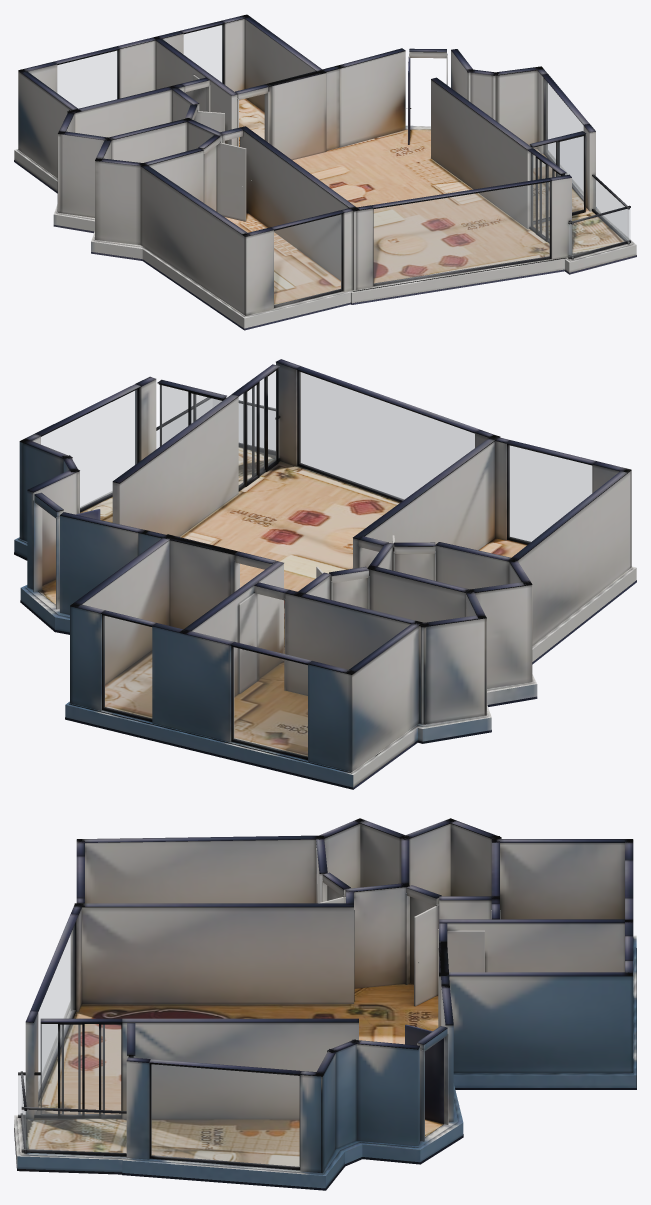
The picture shows the model from 3 angles, top to bottom: view 1: azimuth 30°, elevation 25°; view 2: azimuth 150°, elevation 25°; view 3: azimuth 270°, elevation 25°; orthographic projection. The views are drawn at different scales.
Parts seen in each view (by area): view 1: plan, glass3_m, glass2_m, glass0_m, glass6_m, railg1_m, glass5_m, glass1_m, railg0_m, glass4_m; view 2: plan, glass3_m, glass0_m, glass6_m, glass2_m, glass1_m, glass4_m, glass5_m, railg1_m, railg0_m; view 3: plan, glass6_m, glass4_m, railg0_m, glass3_m.
Boxes of the visible parts, box(x1,y1,x2,y2) form: plan: box(14, 14, 636, 330); glass3_m: box(374, 182, 549, 283); glass2_m: box(274, 215, 341, 305); glass0_m: box(57, 51, 117, 108); glass6_m: box(545, 80, 583, 196); railg1_m: box(569, 208, 630, 256); glass5_m: box(534, 136, 583, 212); glass1_m: box(184, 25, 222, 82); railg0_m: box(593, 177, 628, 241); glass4_m: box(530, 152, 560, 239); plan: box(14, 359, 636, 789); glass3_m: box(299, 372, 474, 499); glass0_m: box(233, 647, 307, 756); glass6_m: box(41, 390, 136, 508); glass2_m: box(509, 445, 591, 541); glass1_m: box(104, 616, 151, 718); glass4_m: box(239, 371, 275, 487); glass5_m: box(159, 385, 221, 446); railg1_m: box(213, 399, 275, 450); railg0_m: box(156, 399, 211, 448); plan: box(14, 818, 636, 1190); glass6_m: box(151, 1064, 299, 1167); glass4_m: box(41, 1024, 120, 1114); railg0_m: box(22, 1110, 126, 1153); glass3_m: box(38, 926, 74, 1092).
Bounding box in the file's own units: 13.1 × 2.62 × 13.14.
2 materials, 1 textured.
